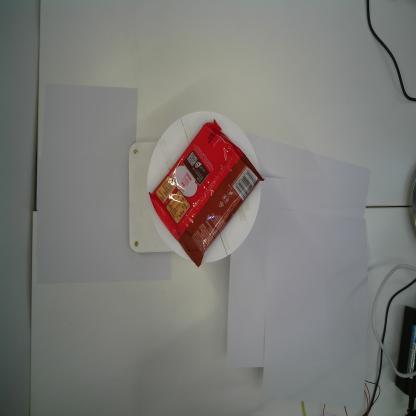Dessert: (148, 117, 266, 269)
